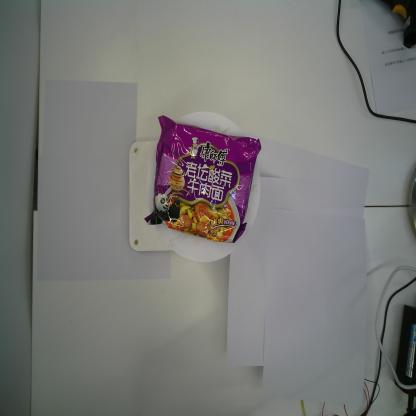Instant Noodles: (143, 114, 263, 247)
